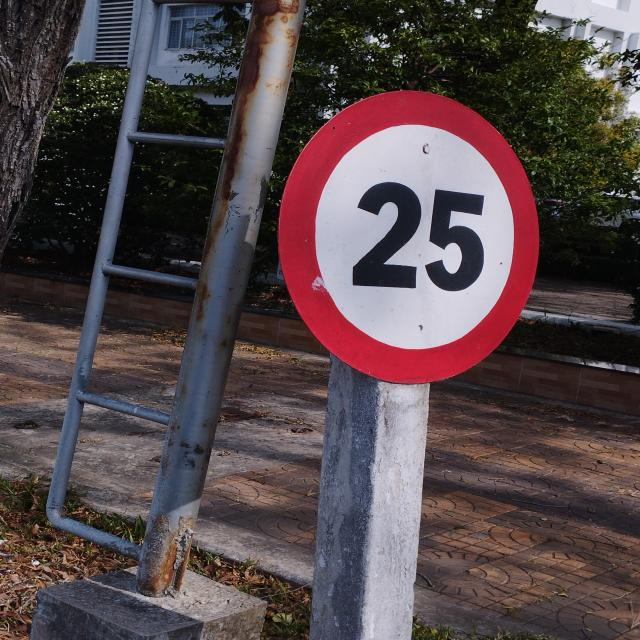Tre_Em: (277, 92, 544, 383)
